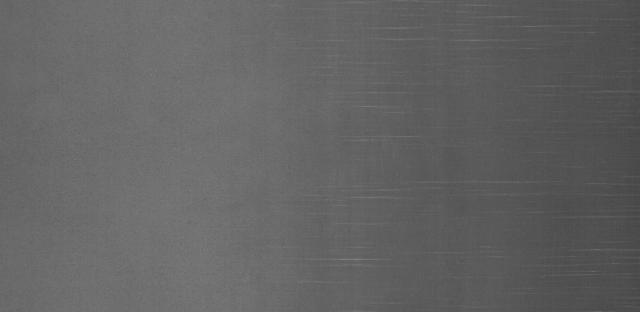waist_folding: (286, 29, 603, 288)
